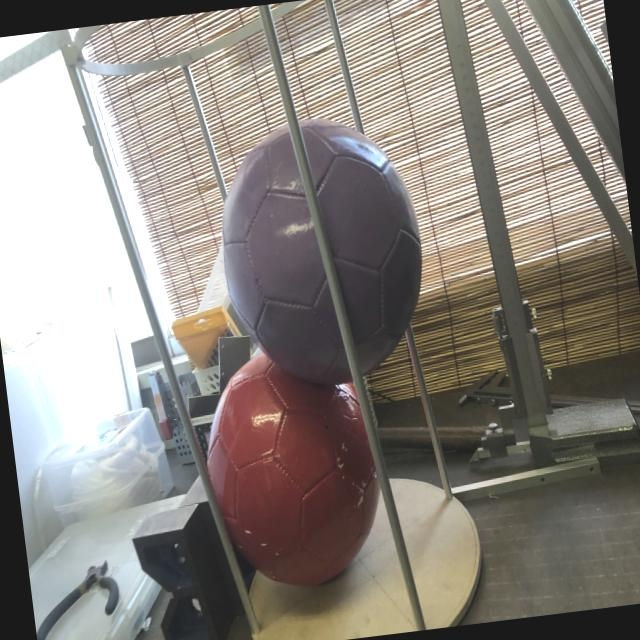purple_ball: (206, 110, 436, 392)
red_ball: (195, 341, 396, 599)
